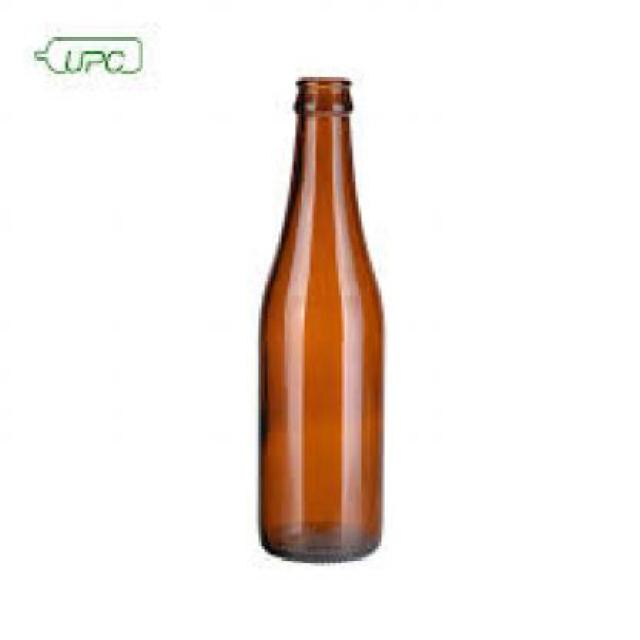kaca: (258, 77, 382, 563)
